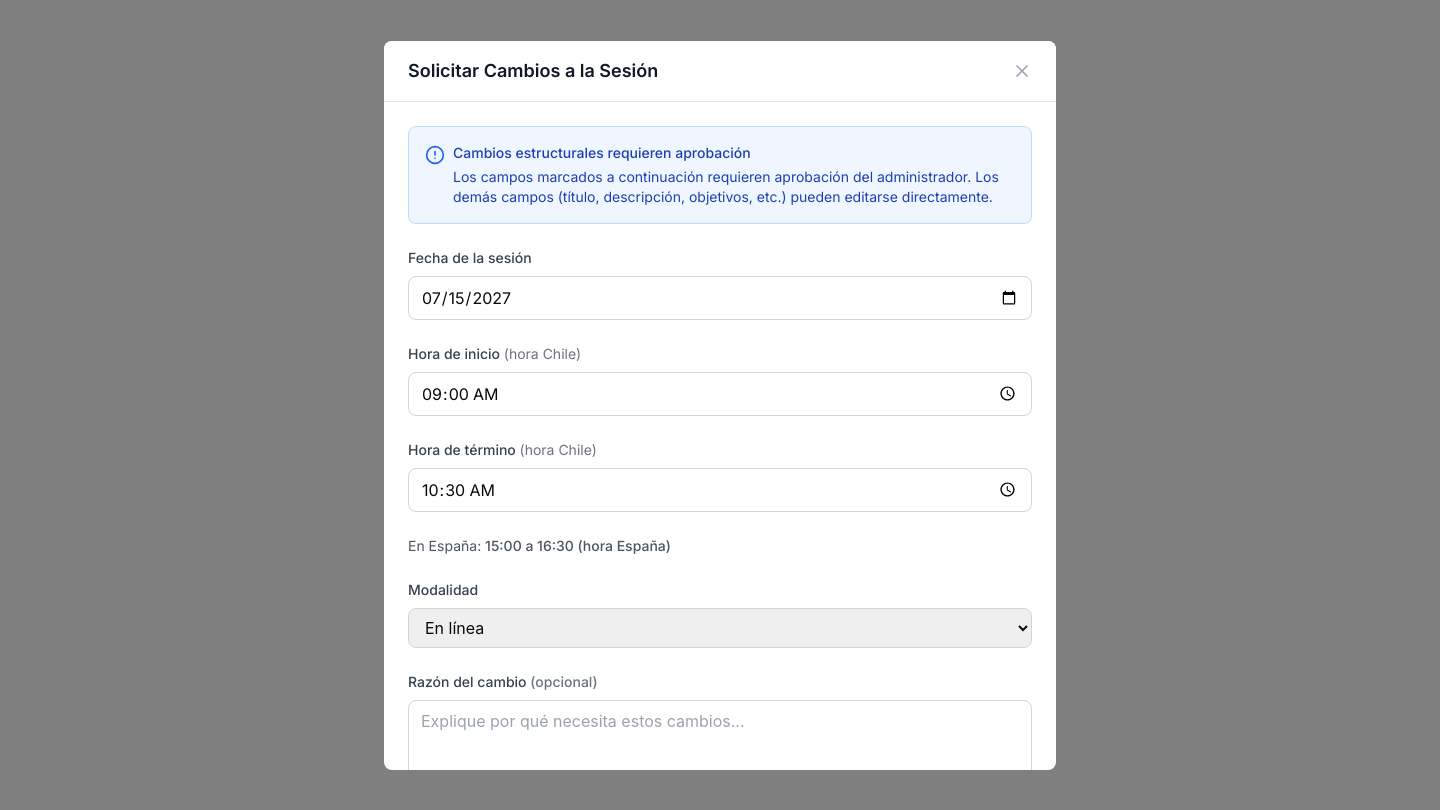
EditRequestModal — dual-zone times › renders no preview when the date is cleared, and does not throw
The image size is (1440, 810).
Clear the date field at (720, 298), box [408,276,1032,320]
(page scrolled)
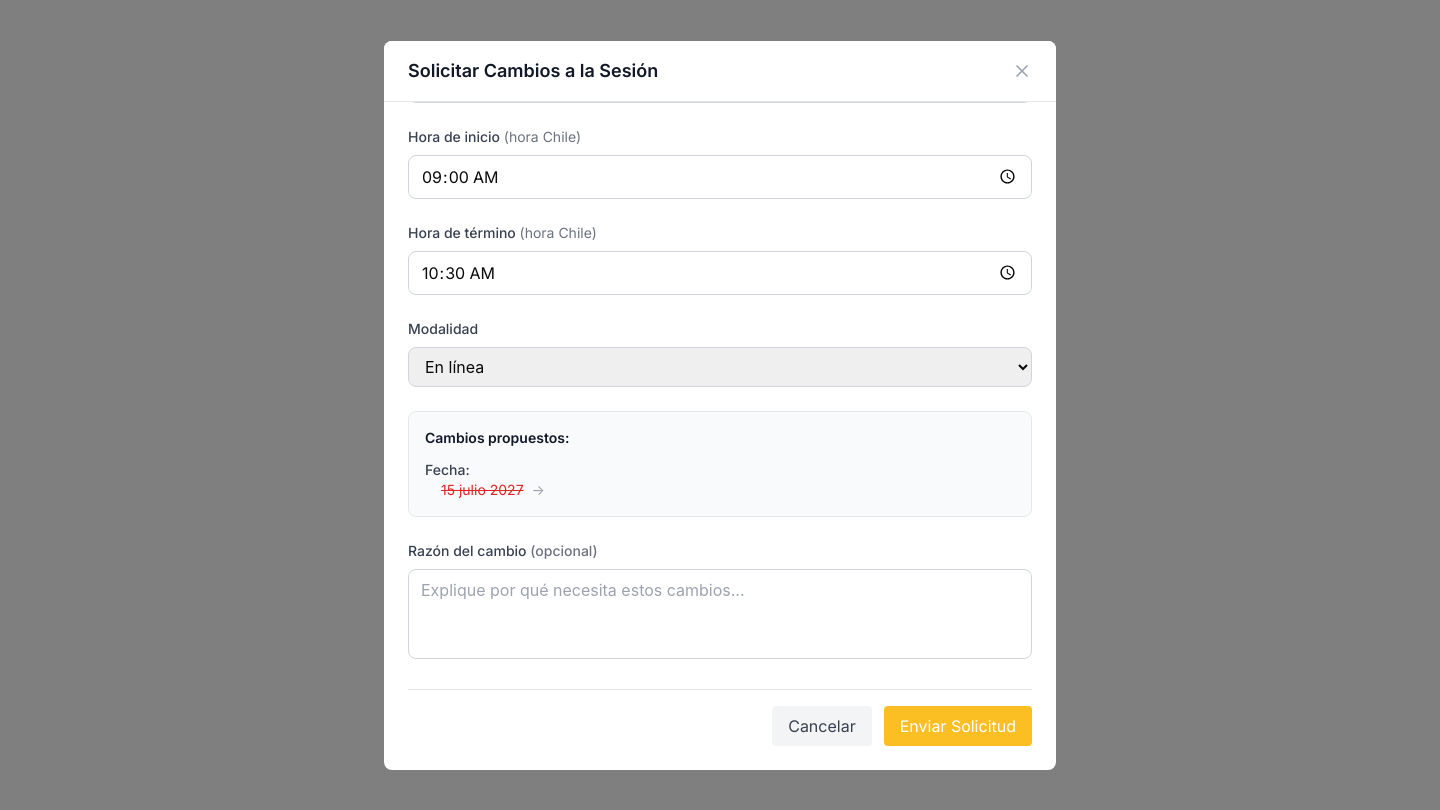
Check: the element with test id "edit-request-spain-preview" is gone
Check: the button "Enviar Solicitud" is shown, box [884,706,1032,746]
